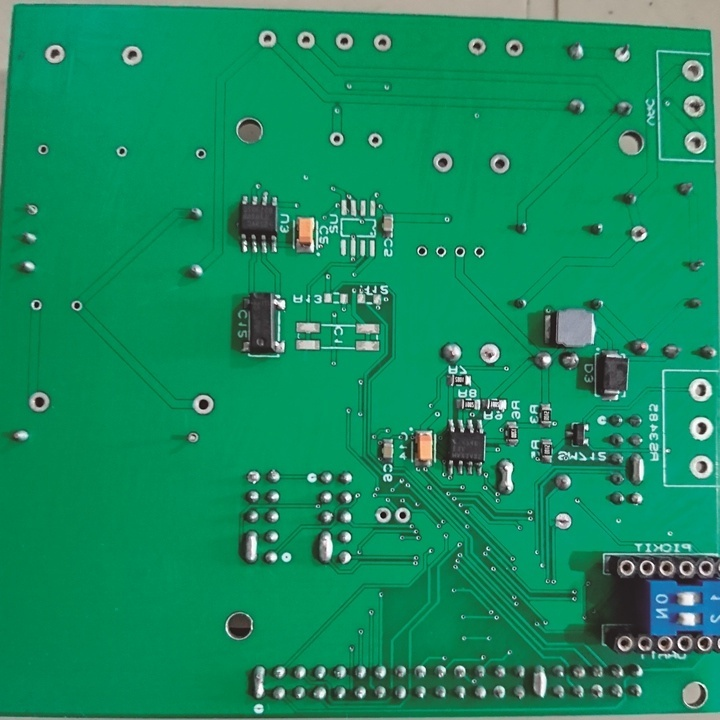F: (681, 126, 713, 158), (679, 90, 710, 119), (687, 452, 716, 483), (686, 375, 715, 406), (678, 56, 707, 85), (687, 412, 714, 443), (24, 387, 51, 416), (476, 336, 502, 366), (487, 149, 513, 178), (118, 41, 144, 69), (42, 40, 68, 66), (190, 391, 216, 417), (429, 148, 456, 173), (611, 40, 636, 66), (254, 26, 280, 51), (294, 27, 319, 52), (370, 30, 396, 54), (332, 28, 356, 54), (628, 218, 649, 246), (464, 32, 488, 55), (553, 511, 576, 534), (501, 37, 525, 58), (393, 505, 414, 529), (373, 503, 393, 527), (587, 682, 607, 702), (451, 660, 469, 682), (412, 659, 429, 682), (183, 427, 201, 448), (245, 466, 263, 486), (367, 129, 384, 150), (327, 129, 348, 146), (491, 683, 509, 702), (27, 297, 46, 314), (69, 298, 87, 315), (23, 202, 39, 221), (413, 243, 431, 259), (193, 143, 208, 161), (433, 244, 449, 260), (473, 243, 487, 261), (453, 244, 467, 261), (35, 142, 50, 157), (114, 143, 128, 159)
P: (247, 661, 270, 705), (494, 455, 516, 500), (628, 450, 650, 489), (239, 527, 260, 567), (313, 528, 334, 568), (530, 660, 549, 702)
